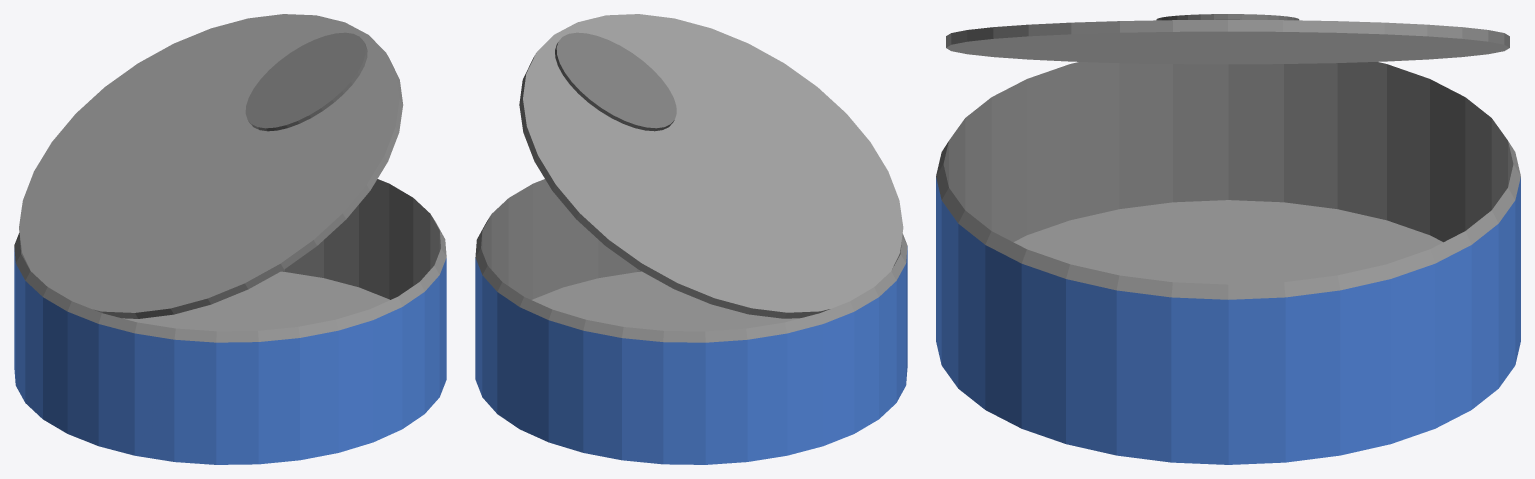
File: tunaCan.dae
The picture shows the model from 3 angles, left to right: view 1: azimuth 30°, elevation 25°; view 2: azimuth 150°, elevation 25°; view 3: azimuth 270°, elevation 25°; orthographic projection. The views are drawn at different scales.
Visible parts, largest first — view 1: tunaCan; view 2: tunaCan; view 3: tunaCan.
Boxes of the visible parts, x1,y1,x2,y2 form: tunaCan: [14, 14, 446, 464]; tunaCan: [475, 14, 907, 464]; tunaCan: [936, 14, 1520, 464].
Size of the model in its own units: 2 by 2 by 1.56.
